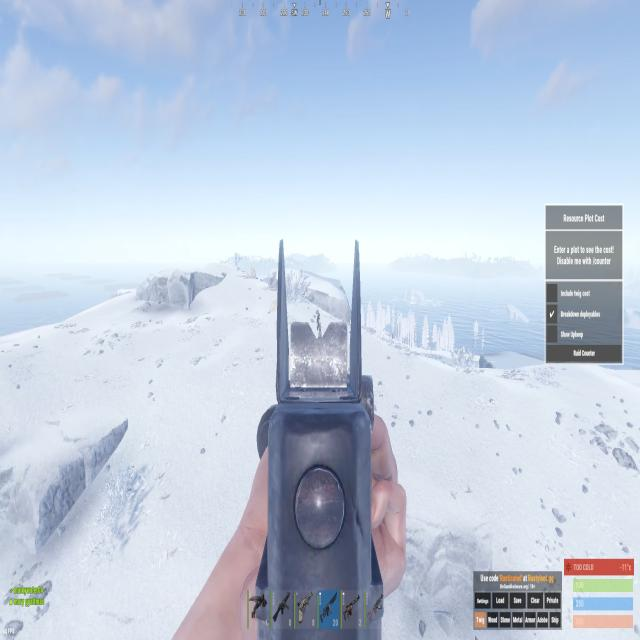Player: (316, 313, 320, 332)
